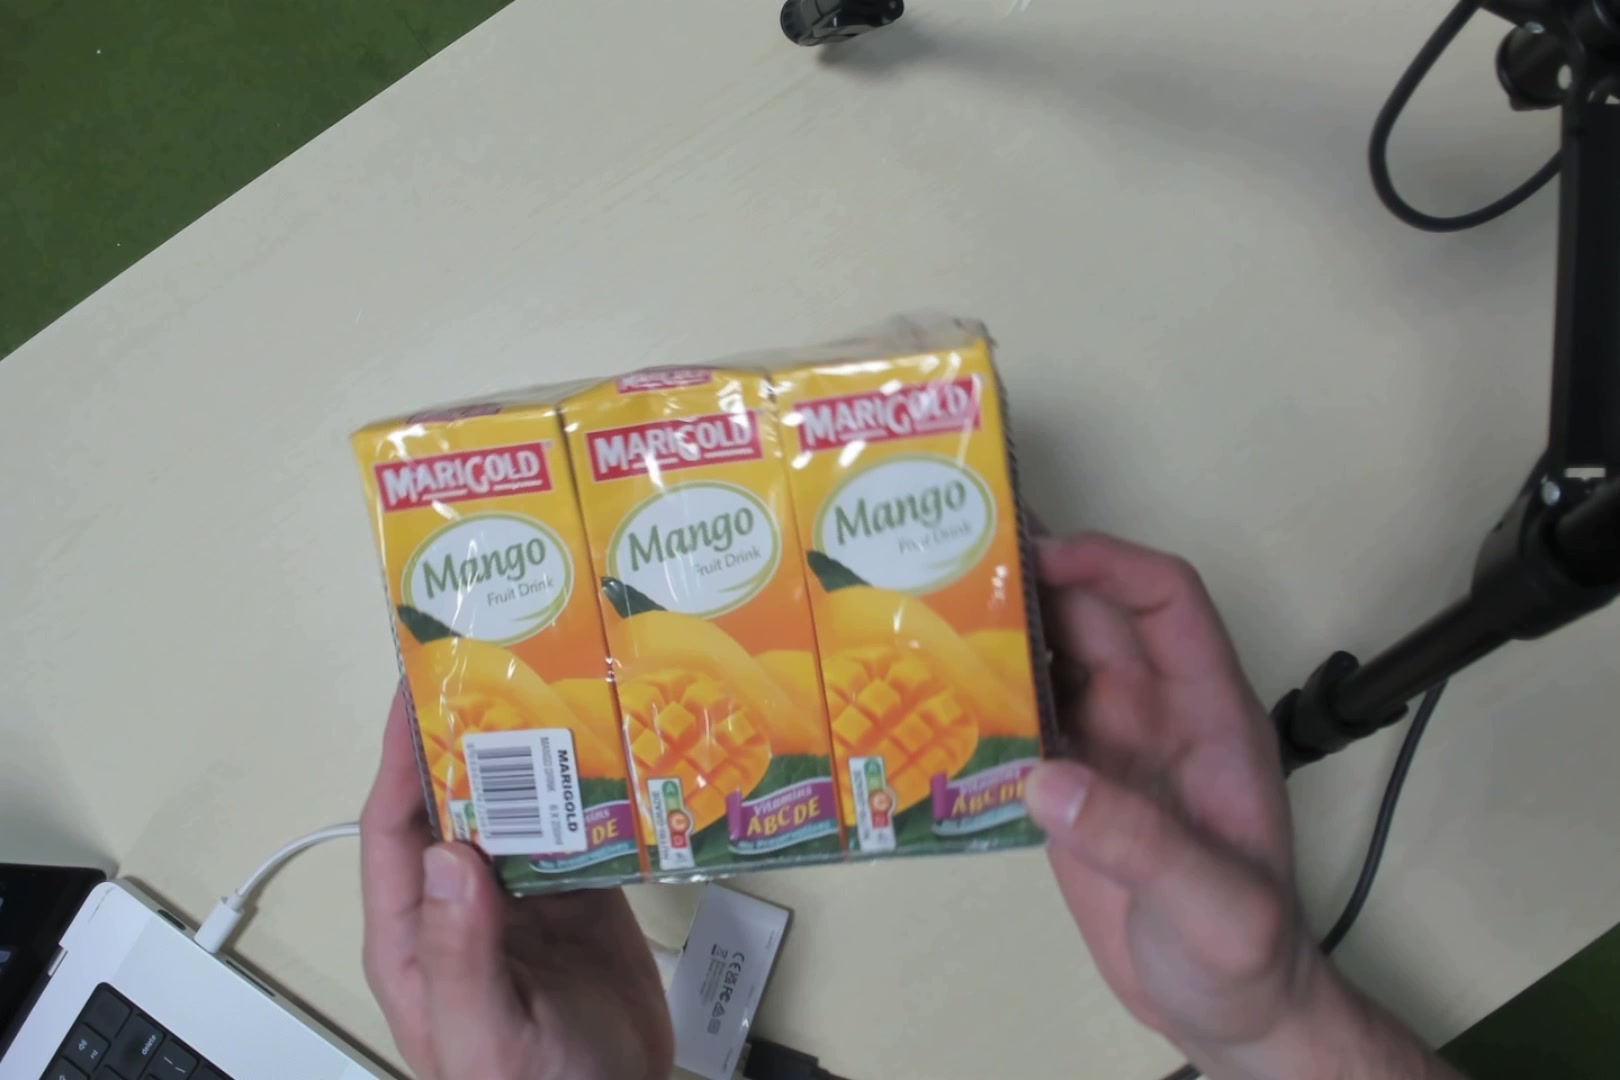FruitJuice_700-799g_Halal_NonHealthy: (372, 335, 1066, 865)
